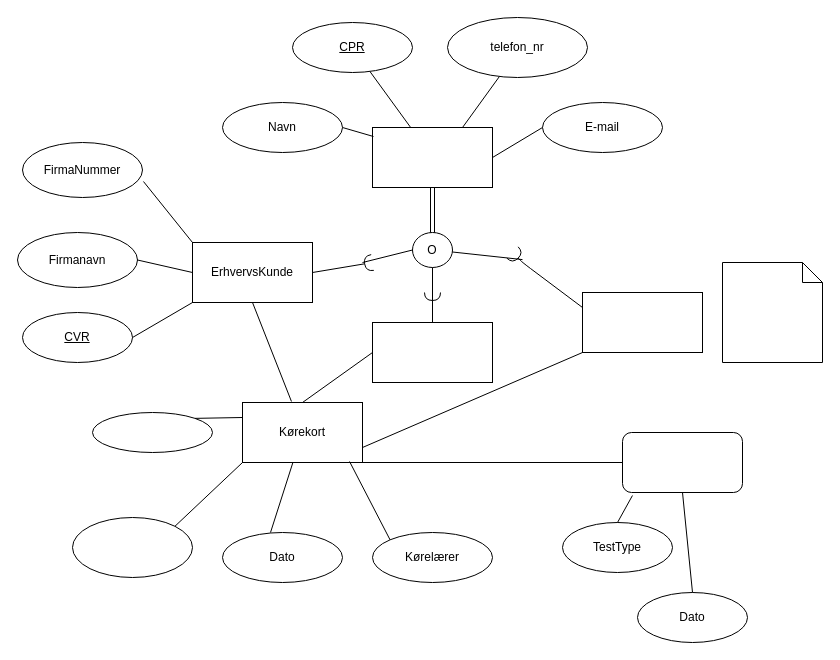
The diagram is 840 pixels wide and 660 high, and some of its shapes have lost their labels. The shapes that lost their labels are listed below. From the top down, each one's box as (x1, y1, x2, y2) in pixels, then its label:
(372, 126, 492, 188): Person
(582, 292, 702, 352): Ansat
(722, 262, 822, 362): Ansat kan have en privat virksomhed
(372, 322, 492, 382): PrivatKunde
(92, 412, 212, 452): Type
(622, 432, 742, 492): Testforsøg
(72, 516, 192, 578): Køretimer
